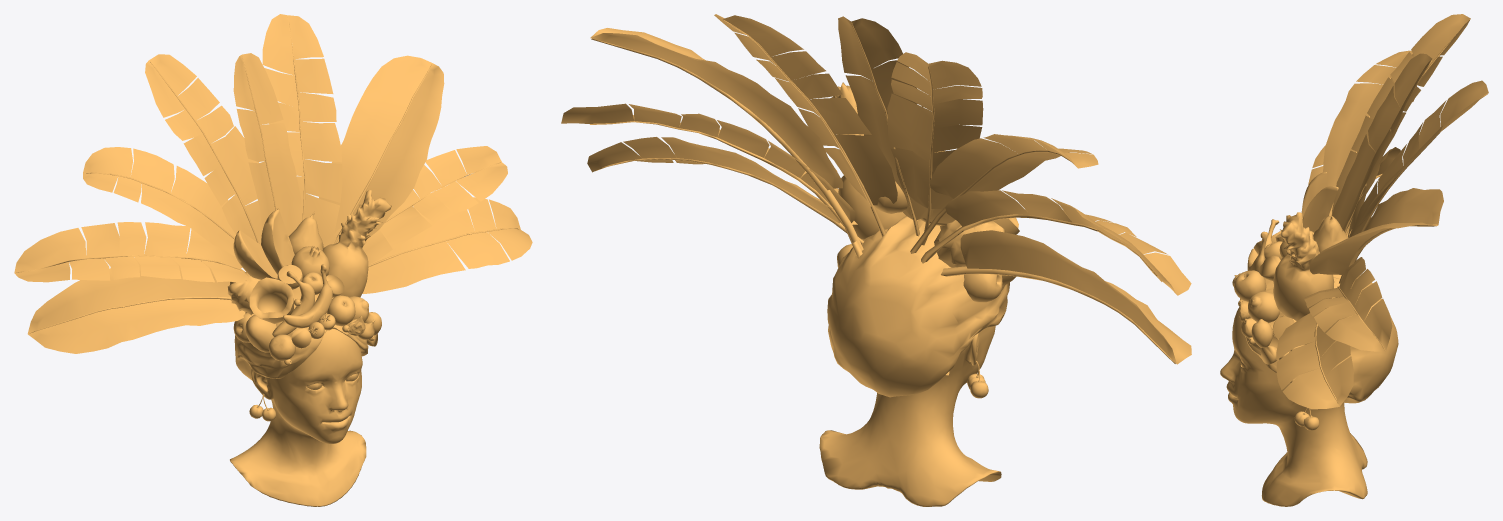
File: website_avatar_fruits_v10.gltf
3 views of the same model, side by side, from view 1: azimuth 30°, elevation 25°; view 2: azimuth 150°, elevation 25°; view 3: azimuth 270°, elevation 25° (orthographic). The views are drawn at different scales.
Parts seen in each view (by area): view 1: BASEFACE, Ban_6_2, Ban_0, Ban_5_2, Ban_1, Ban_3, Ban_8_2, Ban_2, Ban_7_2, Ban_4_2, 80_pineapple, Bandeau_1 (+12 smaller); view 2: Bandeau_1, BASEFACE, Ban_3, Ban_5_2, Ban_6_2, Ban_0, Ban_1, Ban_4_2, Ban_2, Ban_7_2, Ban_8_2, 80_pineapple (+2 smaller); view 3: BASEFACE, Ban_8_2, Ban_7_2, Ban_6_2, Ban_4_2, 80_pineapple, Ban_3, Ban_2, Ban_5_2, Bandeau_1, Box02_1, 72_orange (+8 smaller).
Part boxes in pixels (left/top/right/bottom): BASEFACE: left=230, top=329, right=366, bottom=506; Ban_6_2: left=319, top=55, right=444, bottom=243; Ban_0: left=27, top=254, right=245, bottom=353; Ban_5_2: left=262, top=14, right=342, bottom=247; Ban_1: left=14, top=222, right=249, bottom=282; Ban_3: left=145, top=54, right=262, bottom=244; Ban_8_2: left=362, top=197, right=532, bottom=293; Ban_2: left=83, top=147, right=235, bottom=255; Ban_7_2: left=330, top=146, right=507, bottom=264; Ban_4_2: left=233, top=53, right=302, bottom=235; 80_pineapple: left=322, top=190, right=391, bottom=297; Bandeau_1: left=234, top=286, right=368, bottom=380; Bandeau_1: left=827, top=216, right=1009, bottom=397; BASEFACE: left=819, top=326, right=1001, bottom=506; Ban_3: left=887, top=52, right=983, bottom=245; Ban_5_2: left=714, top=14, right=897, bottom=237; Ban_6_2: left=590, top=28, right=863, bottom=250; Ban_0: left=941, top=230, right=1191, bottom=364; Ban_1: left=921, top=190, right=1191, bottom=295; Ban_4_2: left=838, top=16, right=934, bottom=236; Ban_2: left=910, top=134, right=1098, bottom=253; Ban_7_2: left=561, top=103, right=862, bottom=258; Ban_8_2: left=587, top=137, right=863, bottom=244; 80_pineapple: left=831, top=82, right=905, bottom=239; BASEFACE: left=1220, top=307, right=1367, bottom=506; Ban_8_2: left=1276, top=297, right=1353, bottom=409; Ban_7_2: left=1304, top=257, right=1392, bottom=351; Ban_6_2: left=1310, top=188, right=1443, bottom=274; Ban_4_2: left=1332, top=53, right=1432, bottom=232; 80_pineapple: left=1273, top=212, right=1334, bottom=320; Ban_3: left=1331, top=14, right=1470, bottom=234; Ban_2: left=1323, top=50, right=1414, bottom=207; Ban_5_2: left=1339, top=80, right=1488, bottom=283; Bandeau_1: left=1240, top=274, right=1398, bottom=403; Box02_1: left=1302, top=186, right=1338, bottom=232; 72_orange: left=1248, top=291, right=1280, bottom=323.
Bounding box in the file's own units: 444 × 358 × 197.
